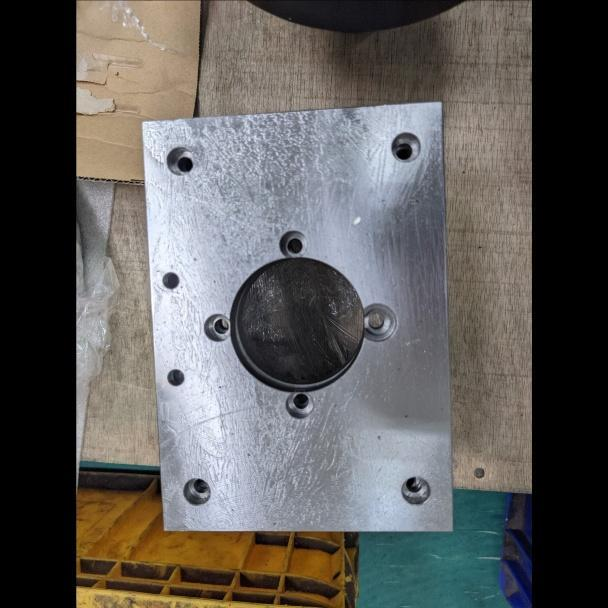hole: (354, 299, 403, 346), (392, 471, 438, 510), (281, 381, 320, 422), (158, 140, 200, 178), (197, 307, 234, 350), (272, 223, 310, 264), (385, 128, 424, 167), (176, 475, 214, 509), (154, 266, 185, 294), (161, 365, 190, 390)
